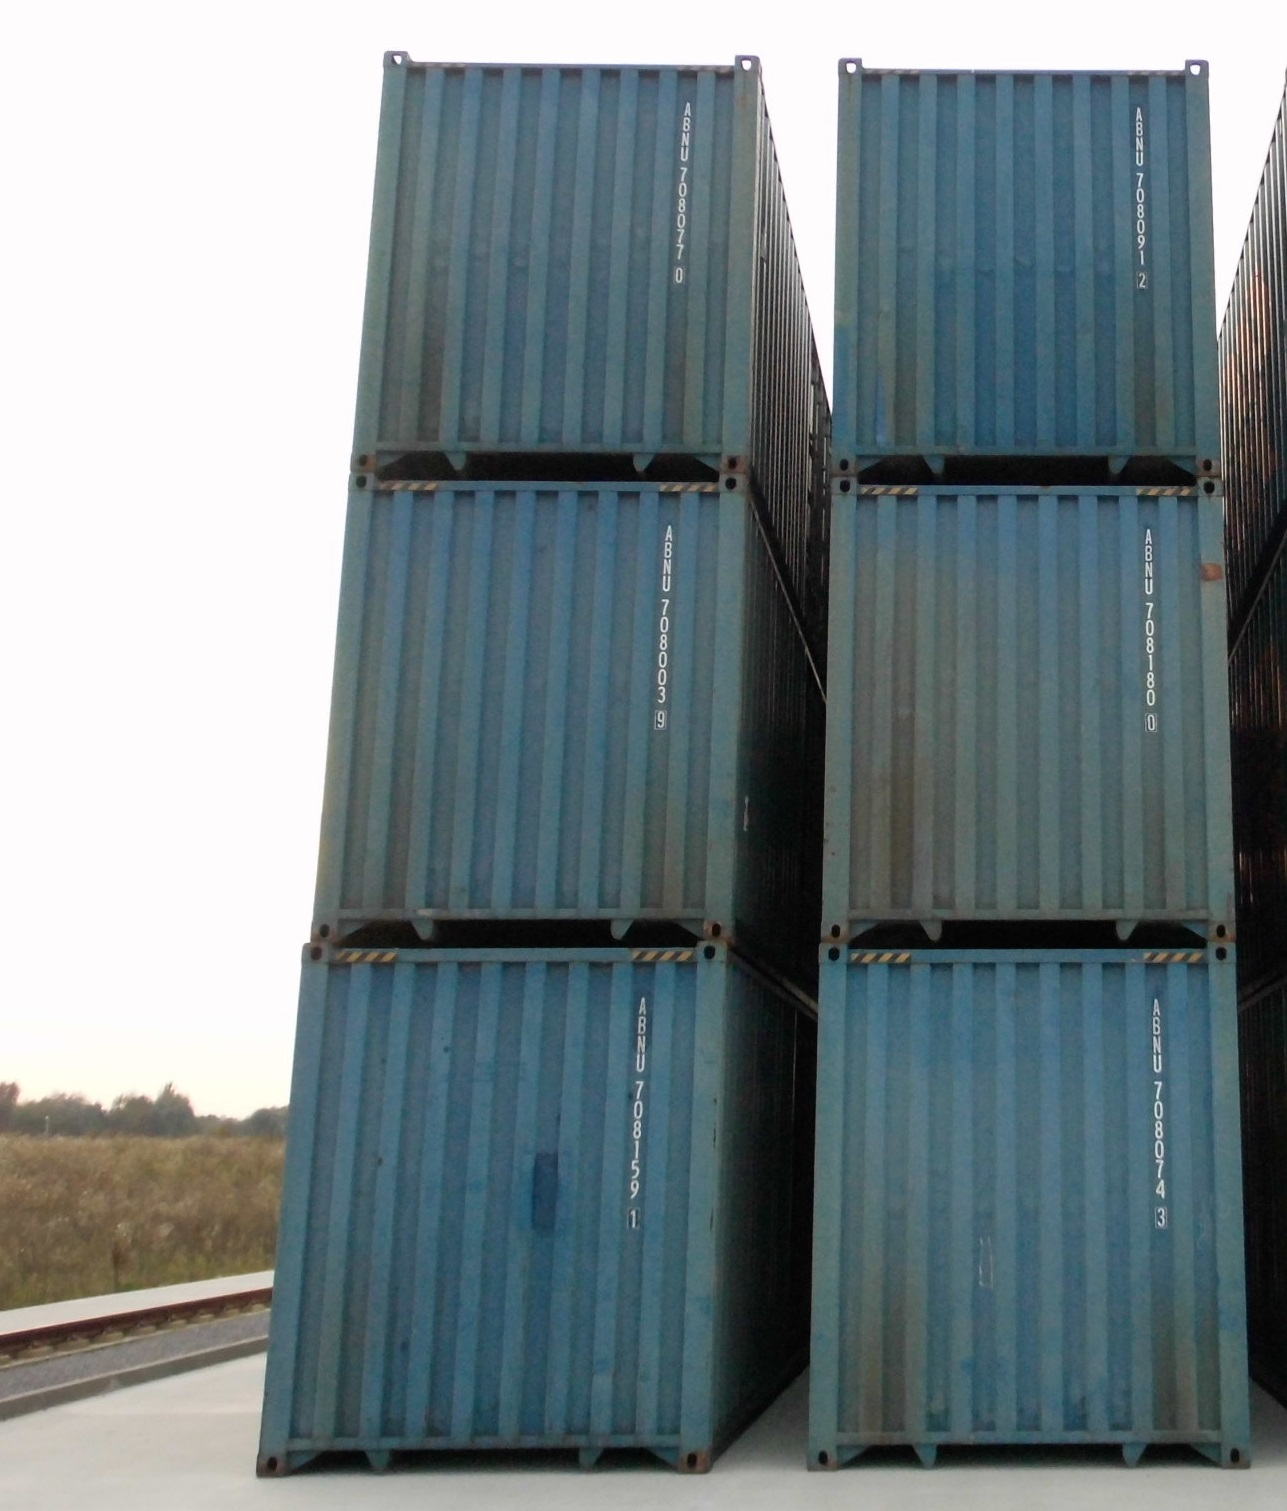container_no_door: (252, 938, 719, 1480), (812, 946, 1247, 1466), (310, 472, 747, 938), (825, 479, 1233, 941), (341, 43, 767, 466), (827, 56, 1223, 480)
